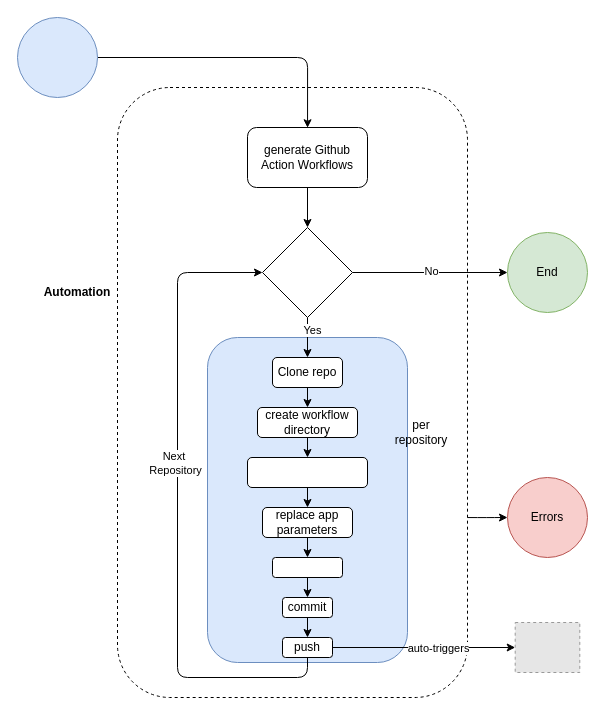
The diagram is 605 pixels wide and 715 high, and some of its shapes have lost their labels. Grey dashed boxes stand in for pictures. Here are the shapes that lost their labels. From the top down, the centre of each, then its label:
At point 57,57: "Start".
At point 307,272: "more repositories?".
At point 307,472: "copy caller workflow".
At point 307,567: "stage file".
